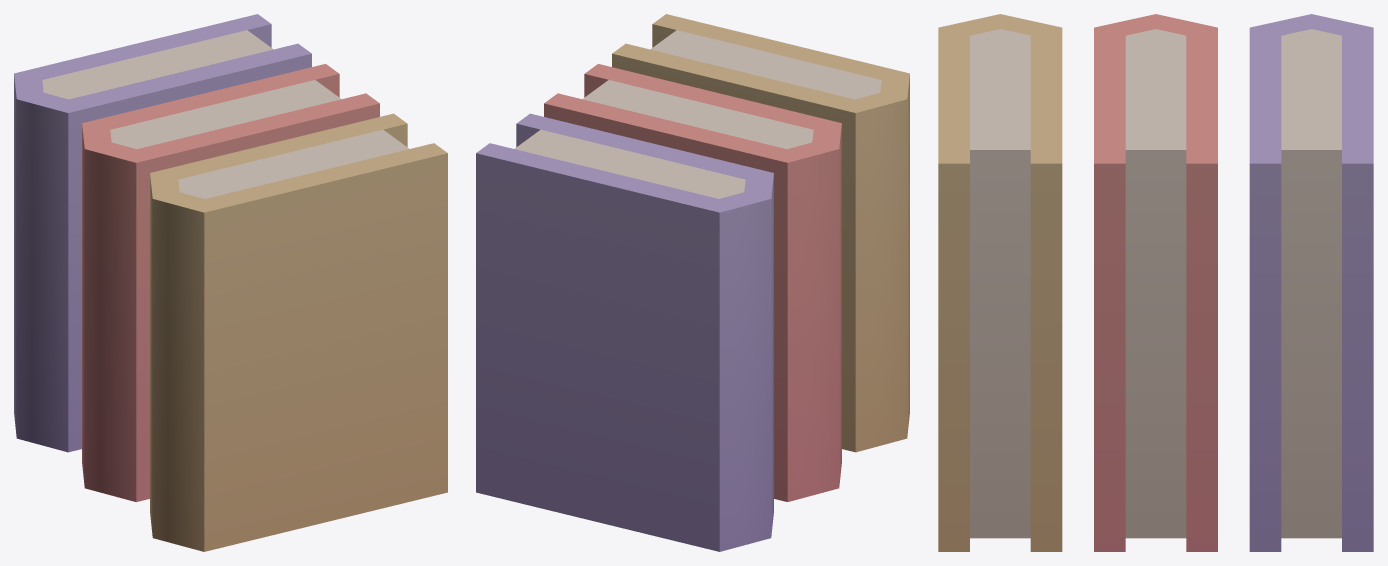
The model's file is books_0.glb.
3 renders of one model, left to right at view 1: azimuth 30°, elevation 25°; view 2: azimuth 150°, elevation 25°; view 3: azimuth 270°, elevation 25°, orthographic. The views are drawn at different scales.
Parts seen in each view (by area): view 1: books; view 2: books; view 3: books.
Boxes of the visible parts, x1,y1,x2,y2 form: books: (14, 14, 447, 551); books: (476, 14, 909, 551); books: (938, 14, 1373, 551).
Size of the model in its own units: 0.22 by 0.266 by 0.2702.
